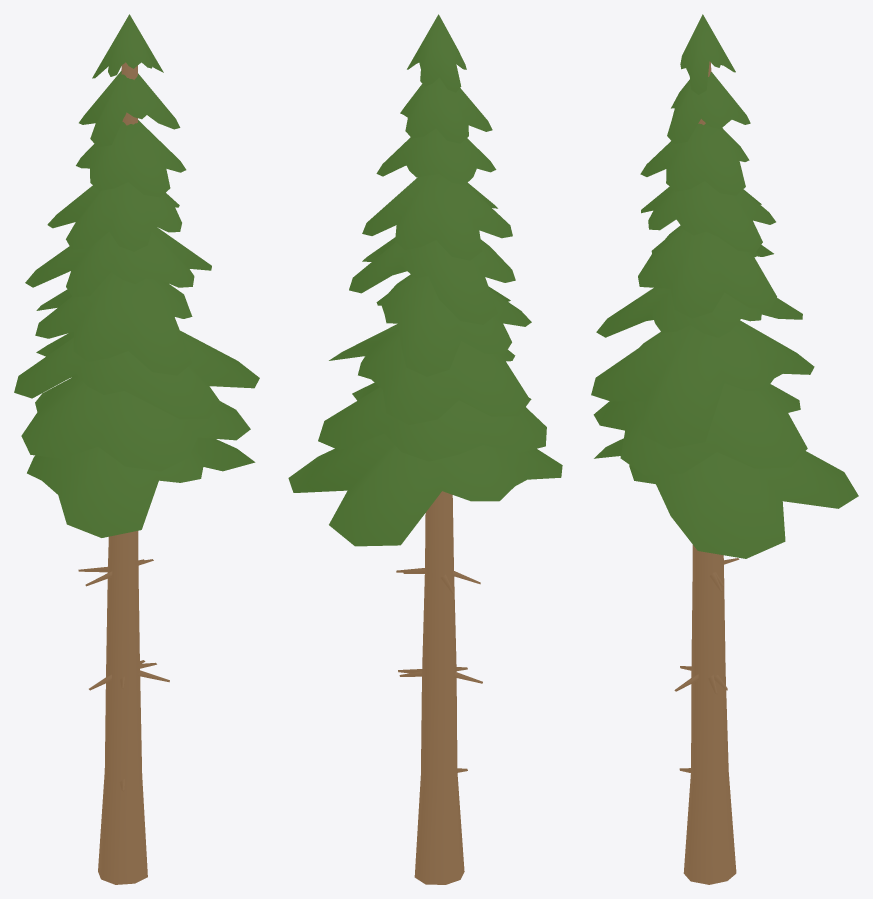
File: Blender_Lodgepole_1.glb
3 views of the same model, side by side, from view 1: azimuth 30°, elevation 25°; view 2: azimuth 150°, elevation 25°; view 3: azimuth 270°, elevation 25° (orthographic).
Visible parts, largest first — view 1: Blender_Lodgepole_1; view 2: Blender_Lodgepole_1; view 3: Blender_Lodgepole_1.
Part boxes in pixels (x1=…): Blender_Lodgepole_1: x1=14, y1=14, x2=259, y2=884; Blender_Lodgepole_1: x1=288, y1=14, x2=562, y2=884; Blender_Lodgepole_1: x1=591, y1=14, x2=858, y2=884.
Size of the model in its own units: 6.87 by 24.3 by 6.85.
